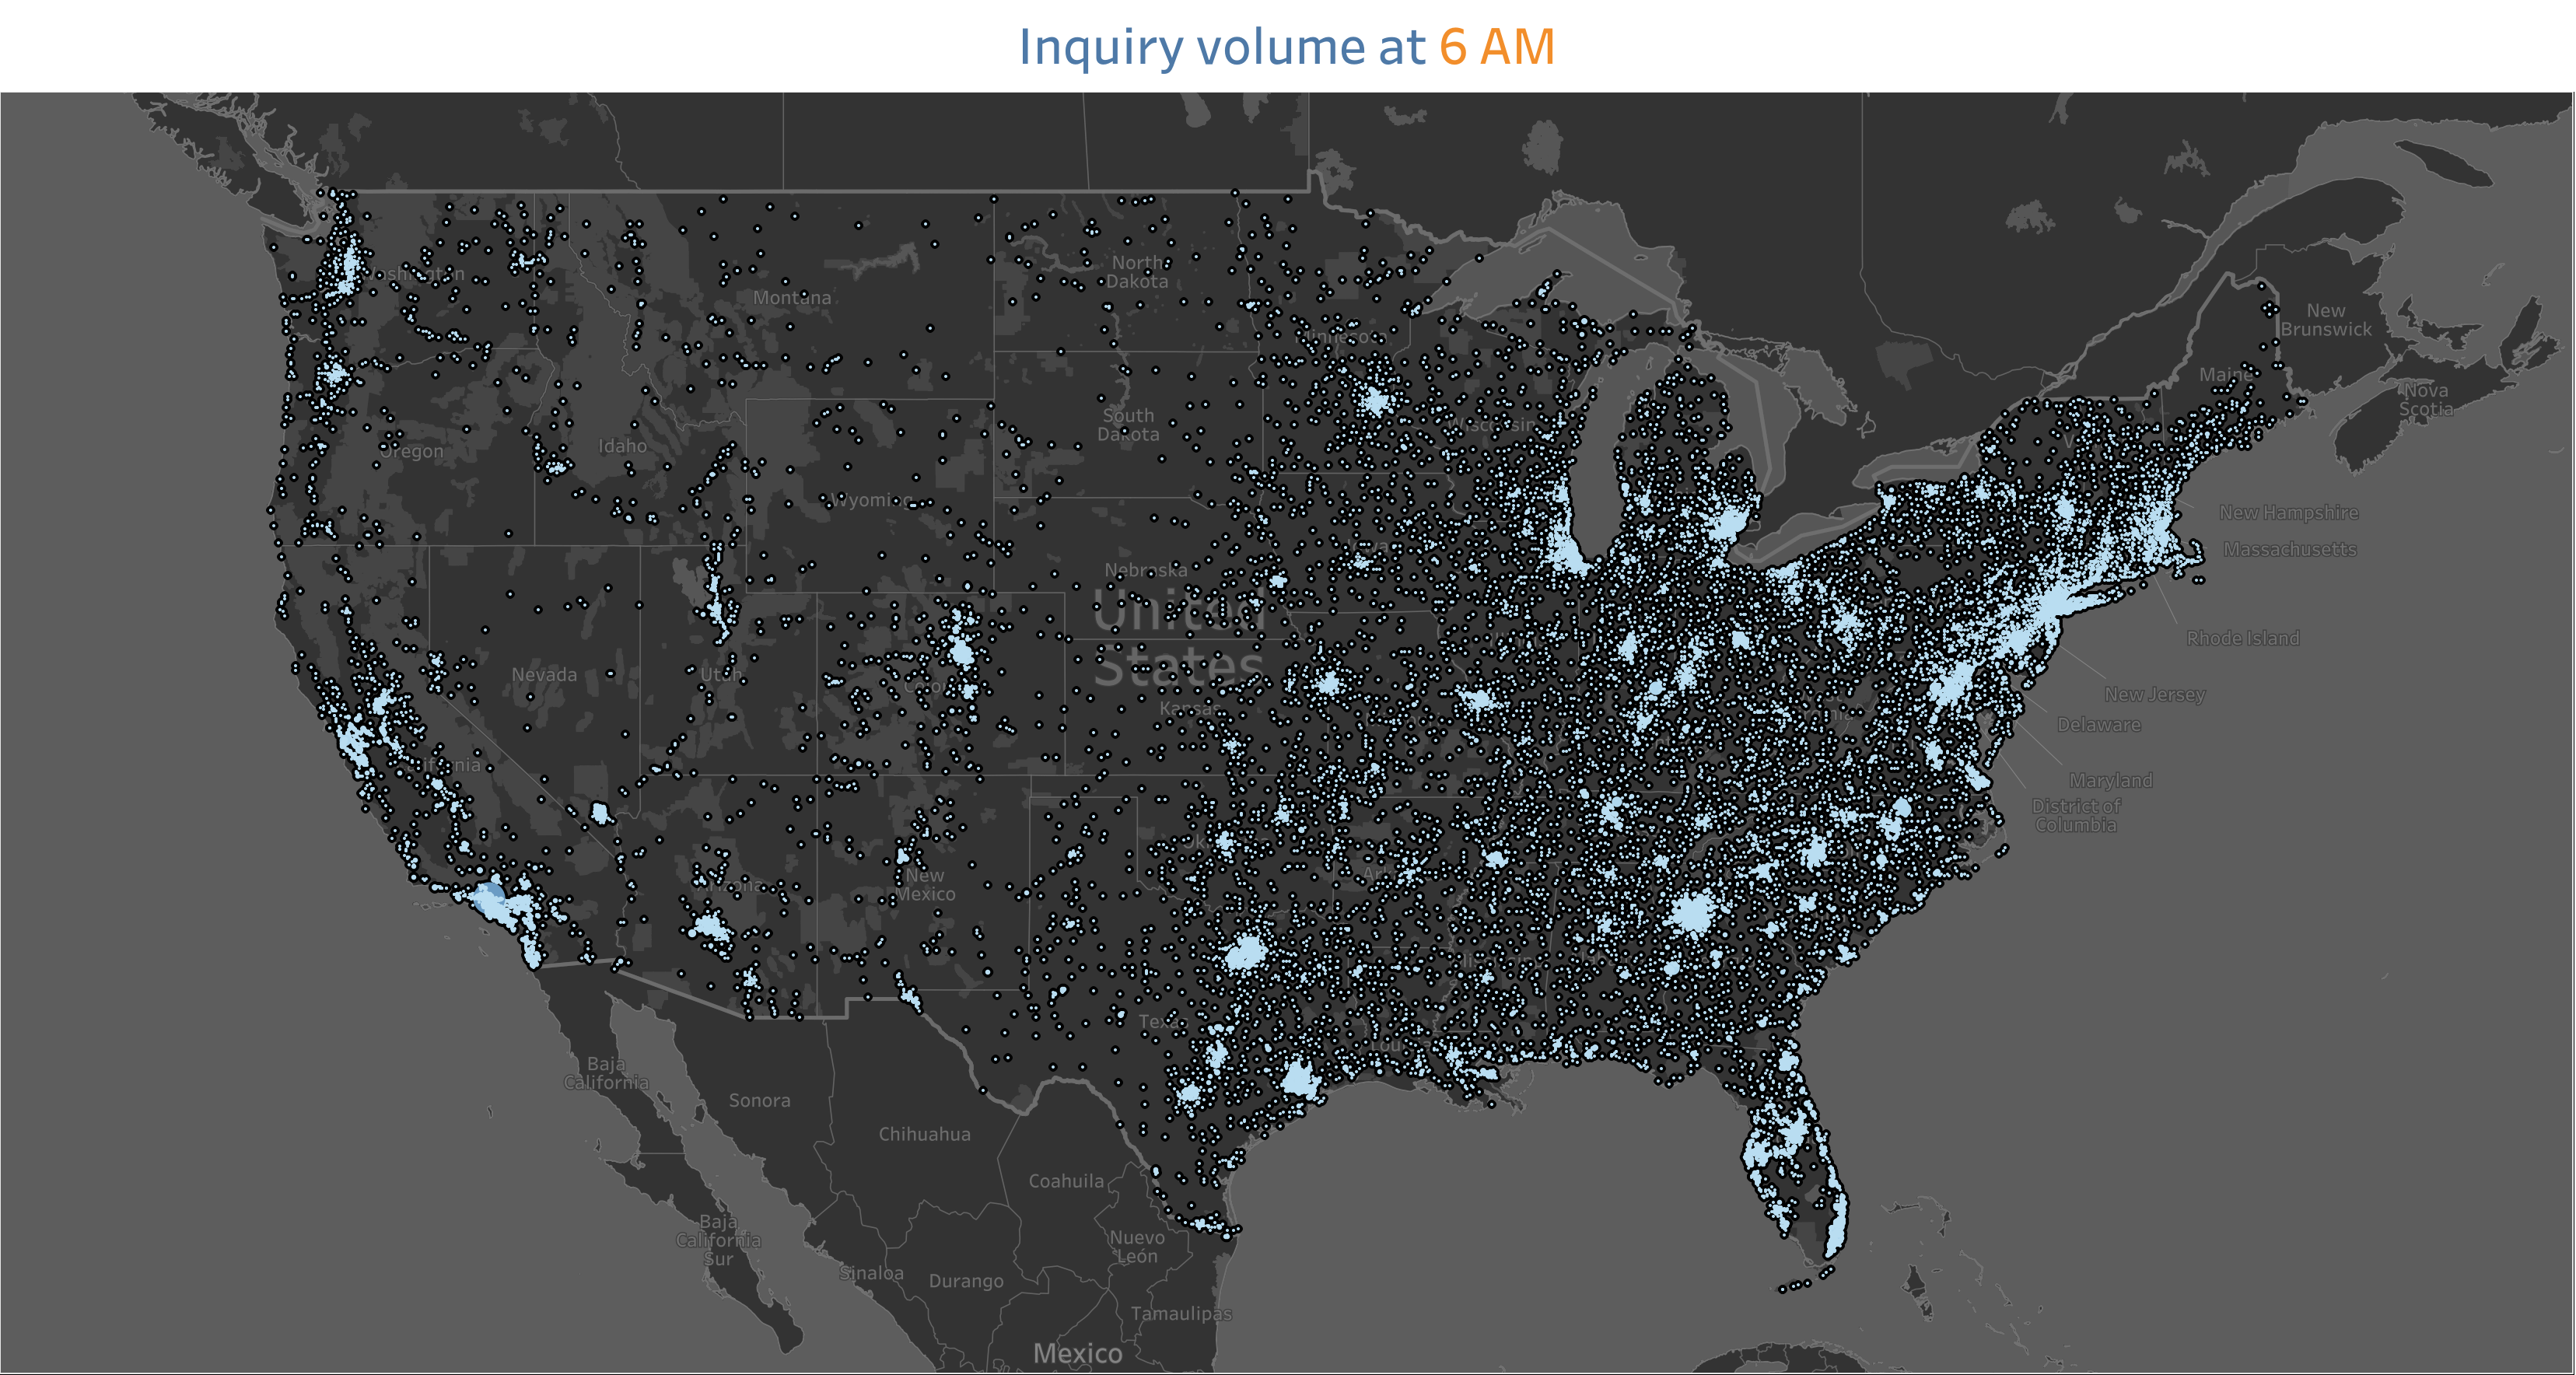

Layout of this report page (visuals, bound fields, positions):
{"tool":"tableau","page":{"name":"Dashboard 1","canvas":[1000,1000],"units":"permille","ordinal":0},"visuals":[{"type":"worksheet","title":"Sheet 1","mark":"Automatic","box":[4.7,8.8,990.6,982.3]},{"type":"currpage","title":"Sheet 1","box":[883,30.9,87.8,105]}]}

Visuals, with their boxes on the dashboard's canvas, which has no fixed pixel size, in thousandths of its width and height (x1, y1, x2, y2). These are canvas units, not pixel positions in the 2576x1375 screenshot, which may show the page scaled, cropped or inside an application window:
"Sheet 1" worksheet: 5,9,995,991
"Sheet 1" currpage: 883,31,971,136
